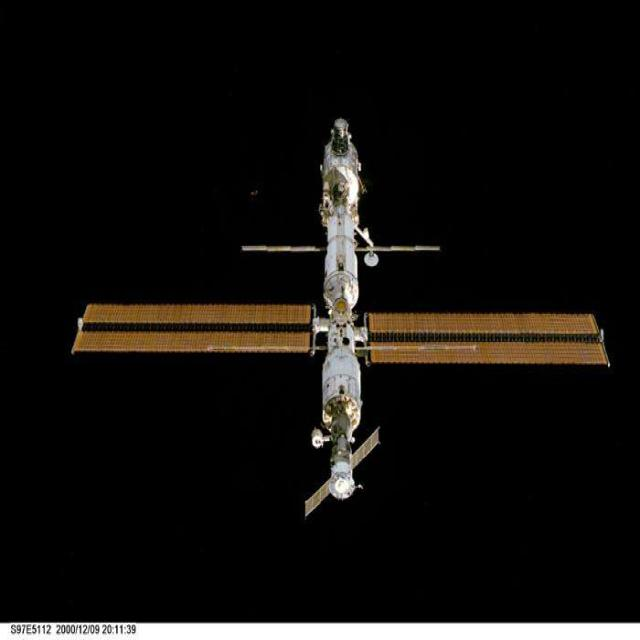satellite: (73, 119, 608, 514)
